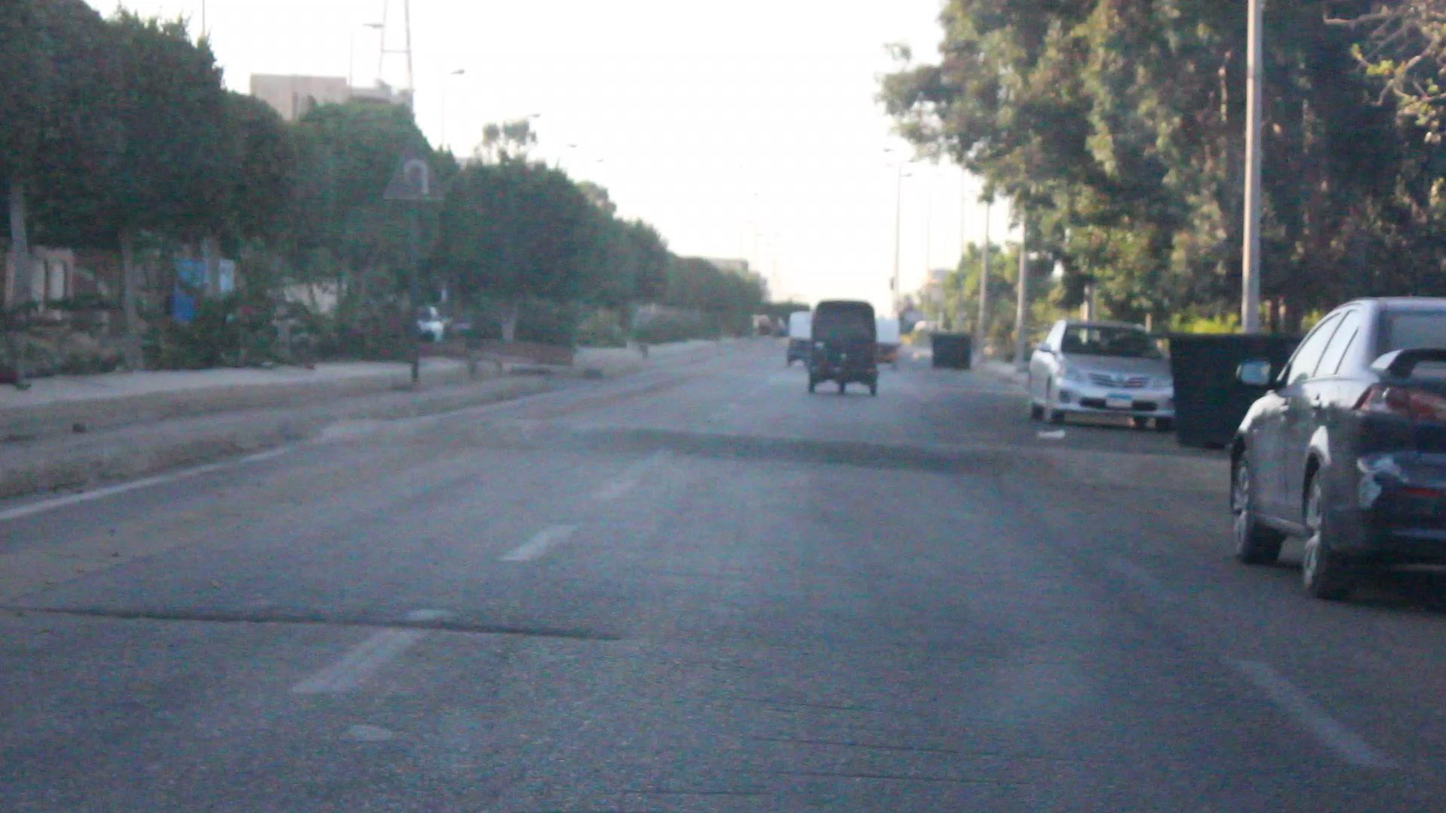Bump: (313, 411, 1238, 489)
